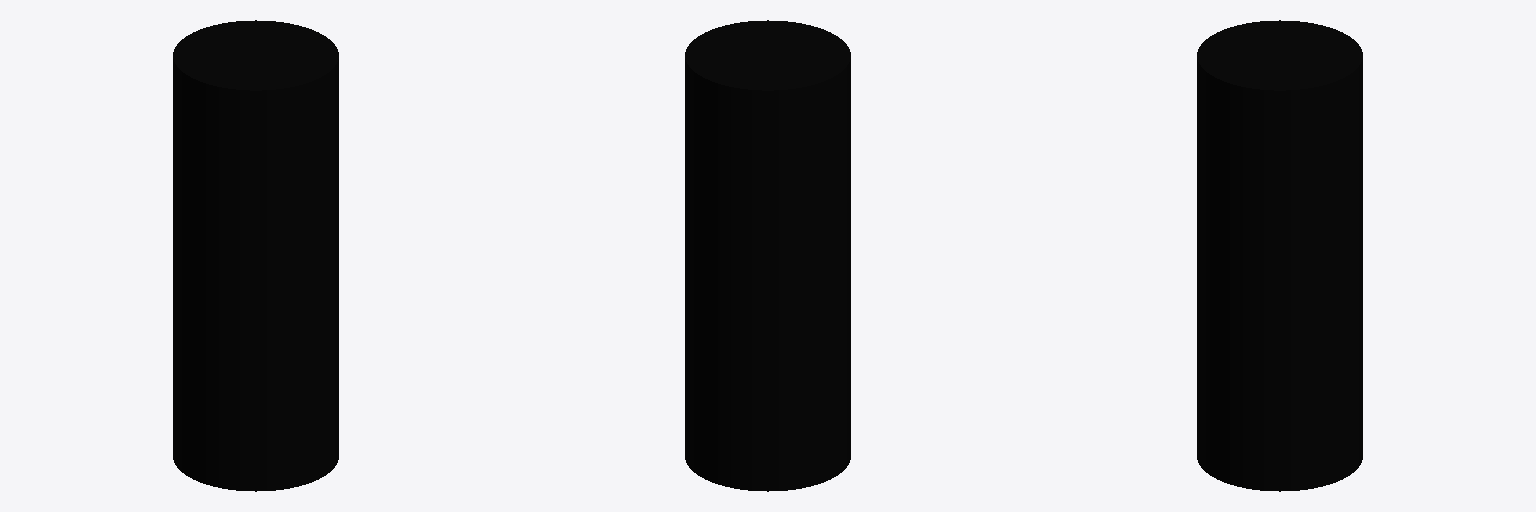
robot.urdf — luxtac_peg_vert:
<?xml version="1.0"?>
<!-- peg, long axis at 0 deg in the pad plane.
     Generated by scripts/make_luxtac_objs.py. Metres, centred on x,y, cross-section
     centre at z = 0.0452 (the pad centre once staged). Long axis at 0 deg in
     the x-z plane: 0 = along the finger, 90 = across it. Length 40mm,
     mass 1.500000 kg.

     The link is named 'cube' because TacSL resolves the indenter link by name. -->
<robot name="luxtac_peg_vert">
    <link name="cube">
        <visual>
            <geometry><mesh filename="../mesh/luxtac_peg_vert.obj"/></geometry>
            <material name="black"><color rgba="0.05 0.05 0.05 1"/></material>
        </visual>
        <collision>
            <geometry><mesh filename="../mesh/luxtac_peg_vert.obj"/></geometry>
            <sdf resolution="256"/>  <!-- 0.156mm voxels -->
        </collision>
        <inertial>
            <origin rpy="0 0 0" xyz="0 0 0.0452"/>
            <mass value="1.500000"/>
            <inertia ixx="2.210787e-04" ixy="0" ixz="0" iyy="2.210787e-04" iyz="0" izz="4.215739e-05"/>
        </inertial>
    </link>
</robot>

--- What the picture shows (computed from the rendered views, not written in the file) ---
The picture shows the robot from 3 angles, left to right: view 1: azimuth 30°, elevation 25°; view 2: azimuth 150°, elevation 25°; view 3: azimuth 270°, elevation 25°; orthographic projection.
Robot: luxtac_peg_vert — 1 links, 0 joints (none); root link cube; default pose: every joint at zero.
Visible links, largest first — view 1: cube; view 2: cube; view 3: cube.
Boxes of the visible links, left/top/right/bottom form: cube: left=173, top=20, right=338, bottom=491; cube: left=685, top=20, right=850, bottom=491; cube: left=1197, top=20, right=1362, bottom=491.
Size in the robot's own frame: 0.015 by 0.015 by 0.04 metres.
1 mesh visuals loaded from 1 distinct referenced files (1 OBJ).
